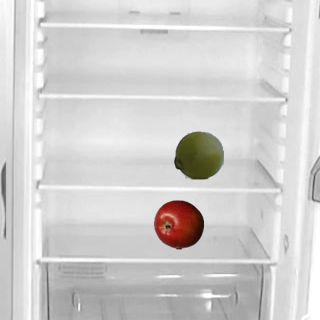Apple Braeburn: (153, 199, 203, 249)
Grape White 4: (173, 129, 223, 179)
